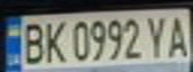0: (69, 16, 90, 63)
2: (121, 15, 145, 61)
9: (87, 16, 109, 62), (106, 15, 127, 61)
A: (163, 11, 193, 58)
B: (18, 19, 48, 65)
K: (39, 17, 69, 64)
Y: (142, 12, 172, 59)
